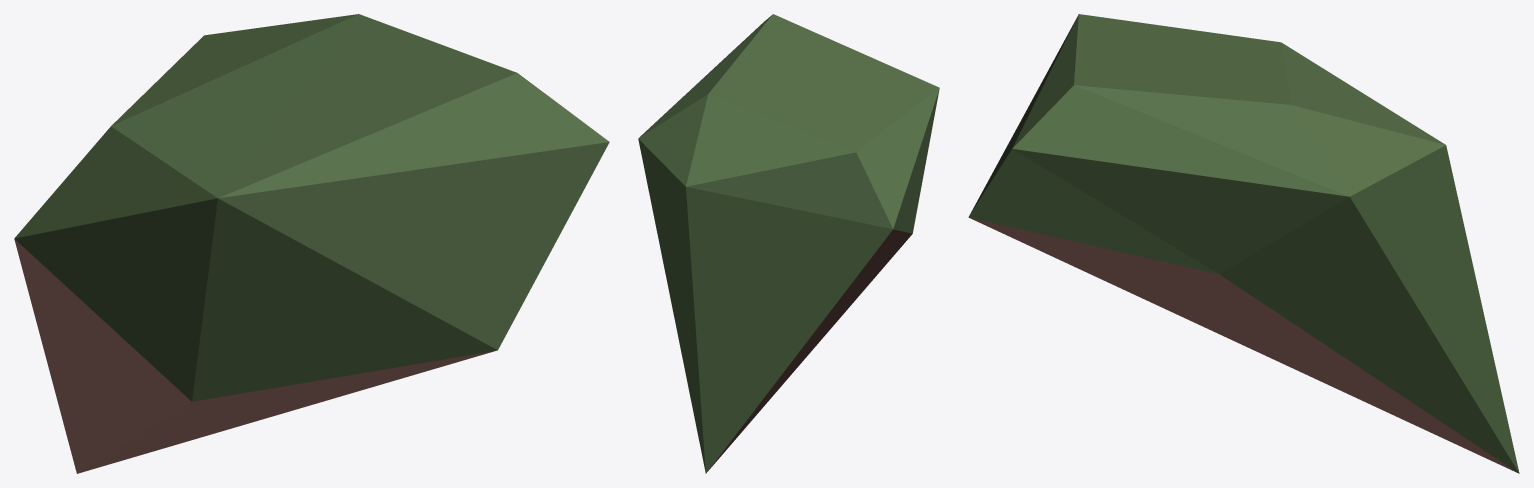
File: PalmTree_2.lod4.glb
The picture shows the model from 3 angles, left to right: view 1: azimuth 30°, elevation 25°; view 2: azimuth 150°, elevation 25°; view 3: azimuth 270°, elevation 25°; orthographic projection. The views are drawn at different scales.
Visible parts, largest first — view 1: PalmTree_2; view 2: PalmTree_2; view 3: PalmTree_2.
Boxes of the visible parts, x1,y1,x2,y2 form: PalmTree_2: (14, 14, 609, 473); PalmTree_2: (638, 14, 939, 473); PalmTree_2: (968, 14, 1519, 473).
Bounding box in the file's own units: 2.31 × 2.97 × 3.28.
